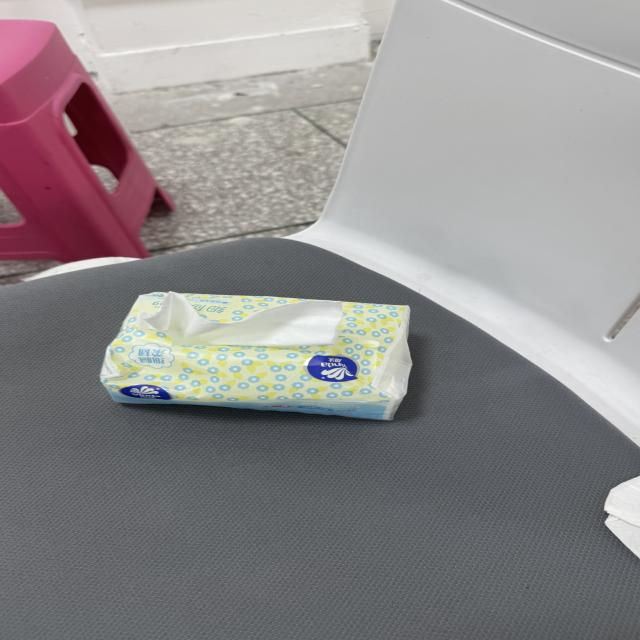tissue: (102, 293, 411, 419), (138, 293, 342, 346), (605, 478, 639, 557)
